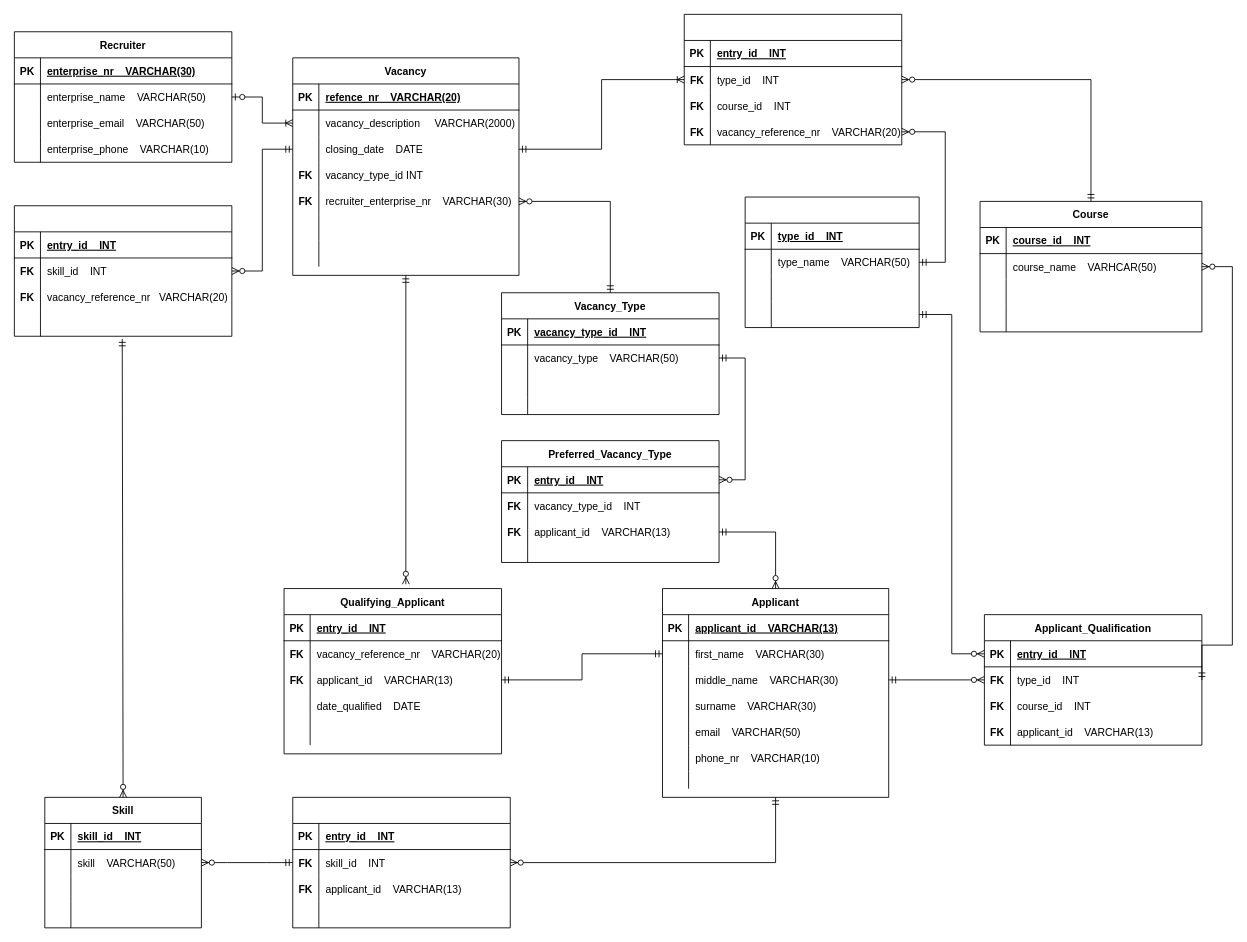
Image size: 1247x942. Some labels were removed from this diagram. The box of each missing label's shape, as (x1, y1, x2, y2) in pixels:
Applicant_Skill: (292, 796, 510, 928)
Qualification_Type: (744, 196, 919, 328)
Required_Qualification: (683, 13, 902, 145)
Required_Skill: (13, 205, 232, 336)
